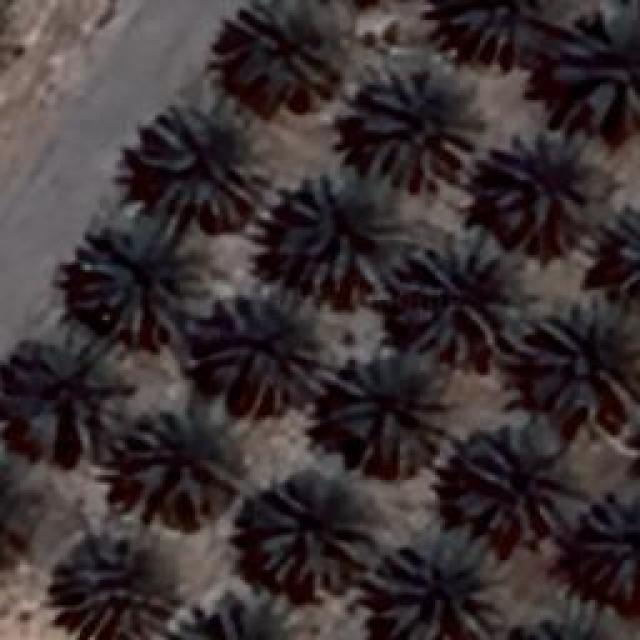PalmTree: (27, 88, 627, 254), (195, 280, 348, 415), (107, 36, 500, 88), (74, 210, 218, 348), (390, 230, 520, 368), (280, 168, 412, 302), (350, 59, 480, 192), (140, 95, 265, 223), (444, 420, 578, 538), (247, 470, 375, 590), (480, 130, 605, 252), (365, 530, 505, 638), (332, 347, 450, 475), (125, 398, 240, 528), (18, 330, 132, 460), (515, 300, 635, 418), (50, 530, 180, 638), (547, 4, 635, 138), (217, 0, 324, 102), (170, 587, 308, 635), (580, 488, 635, 600), (0, 456, 36, 570), (518, 600, 618, 638), (0, 0, 25, 77)
